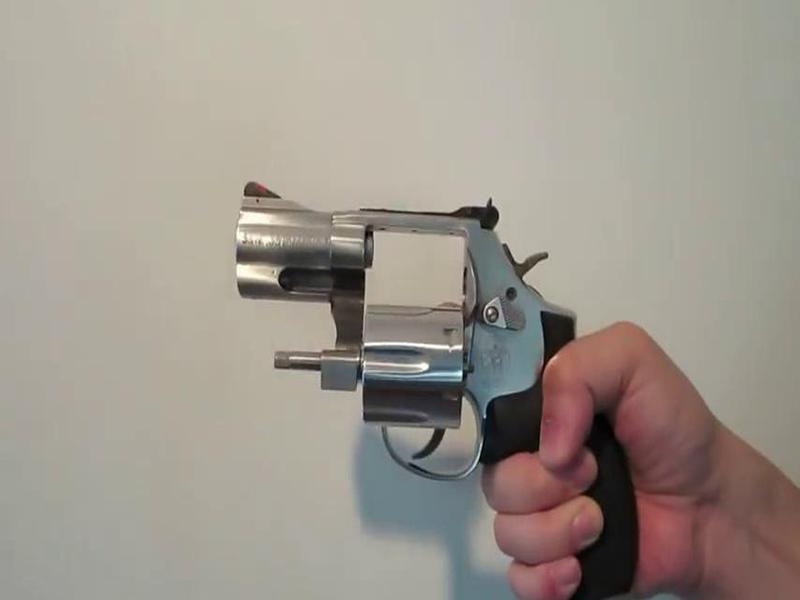Revolver: (218, 170, 657, 600)
